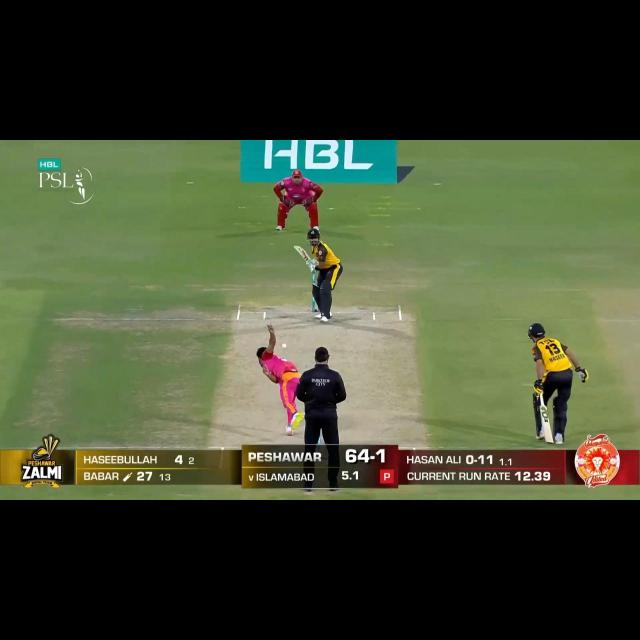bat: (539, 404, 557, 444), (293, 245, 311, 262)
toe: (544, 430, 555, 444), (293, 246, 304, 256)
